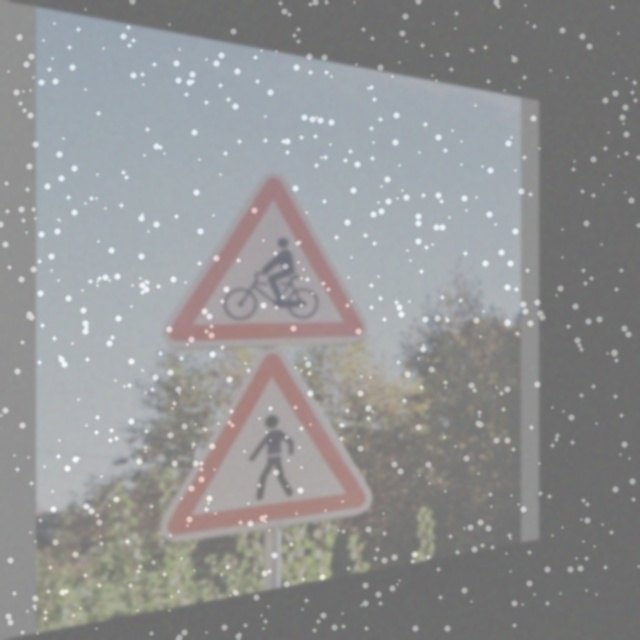Cycle_Crossing: (159, 159, 367, 351)
